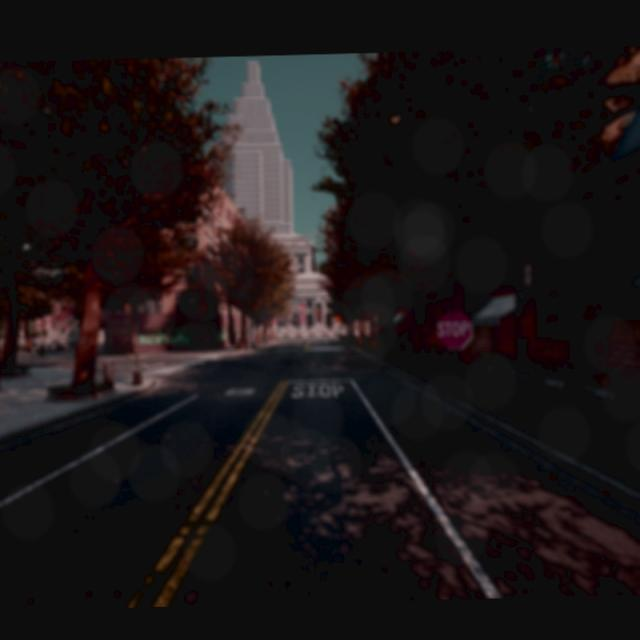stop sign: (432, 306, 475, 353), (435, 318, 471, 339)
